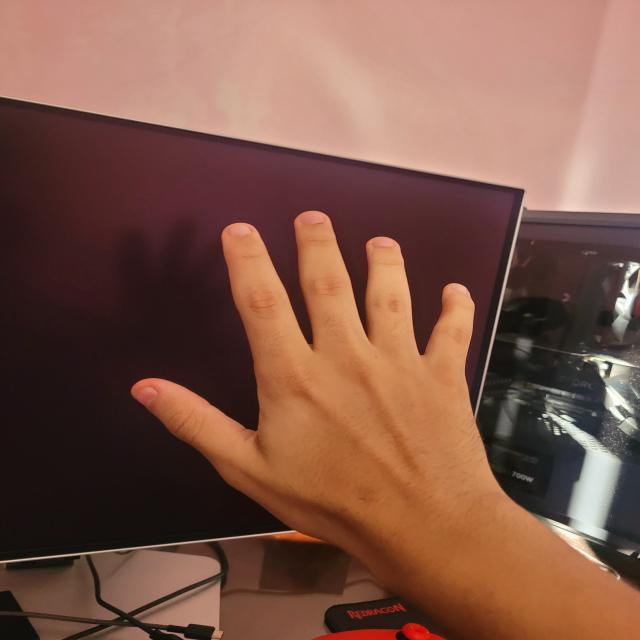Open Hand: (128, 210, 508, 540)
